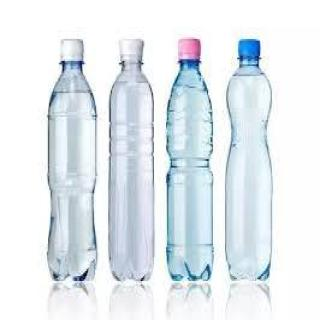Plastic-bottle: (47, 39, 101, 286), (166, 35, 216, 285), (225, 39, 275, 286), (108, 38, 157, 284)
